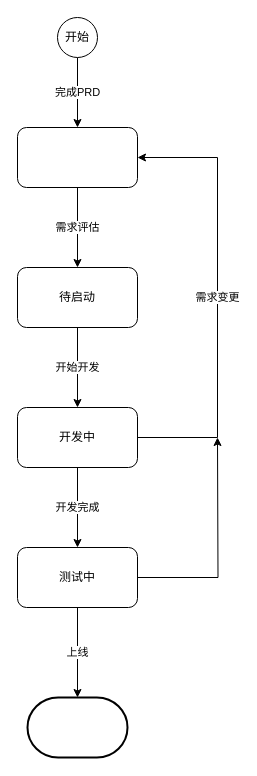
Image size: 257x776. Some labels were removed from this diagram. Each missing label, with the box of its shape:
已上线: (26, 696, 128, 758)
待评估: (16, 126, 138, 188)
